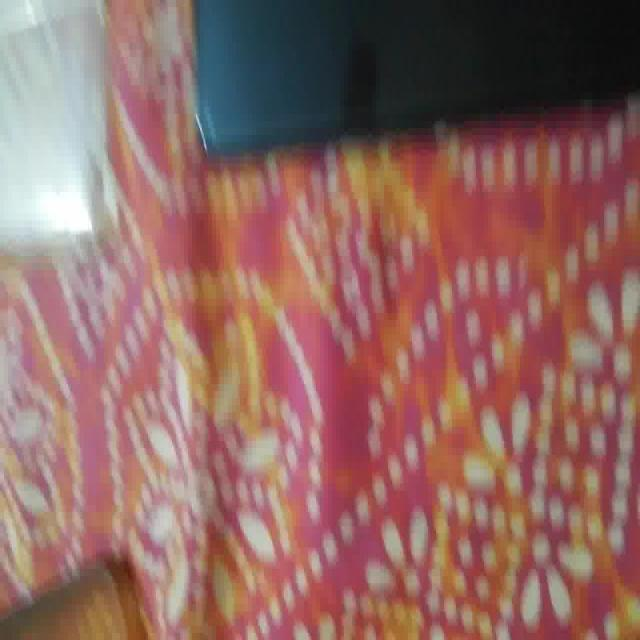phone: (189, 2, 639, 166)
